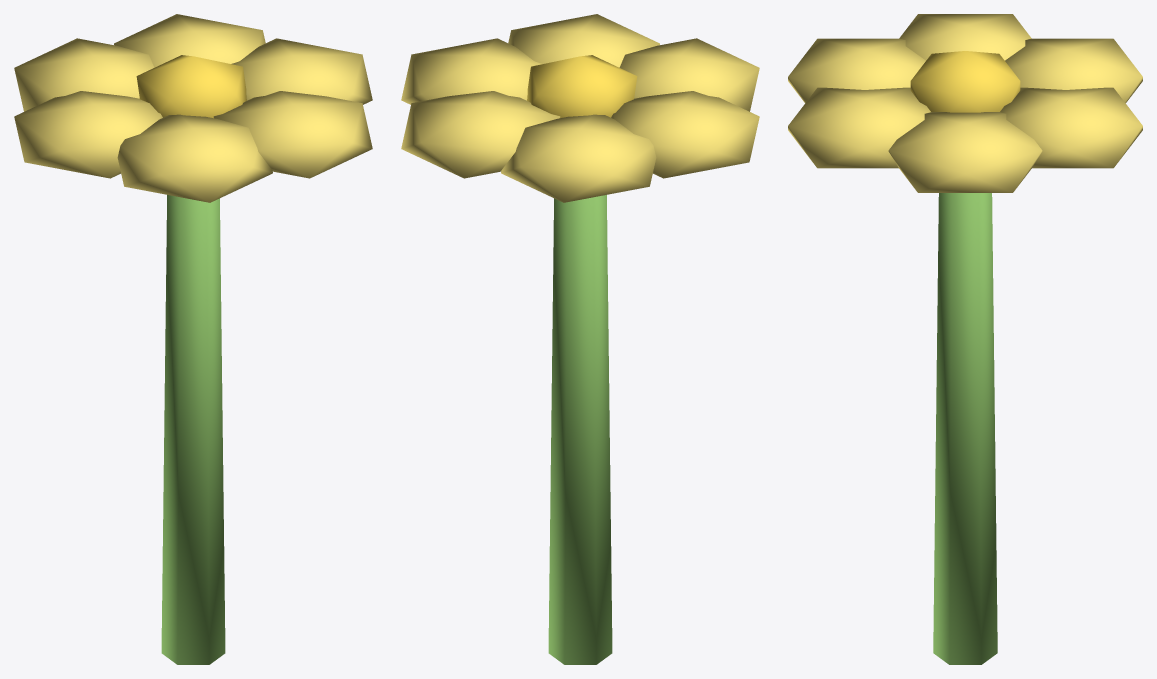
File: Flower_1.fbx
3 views of the same model, side by side, from view 1: azimuth 30°, elevation 25°; view 2: azimuth 150°, elevation 25°; view 3: azimuth 270°, elevation 25° (orthographic).
Parts seen in each view (by area): view 1: Flower_1; view 2: Flower_1; view 3: Flower_1.
Part boxes in pixels (<box>): Flower_1: <box>14,14,372,664</box>; Flower_1: <box>401,14,759,664</box>; Flower_1: <box>788,14,1142,664</box>.
Size of the model in its own units: 0.3052 by 0.515 by 0.275.
